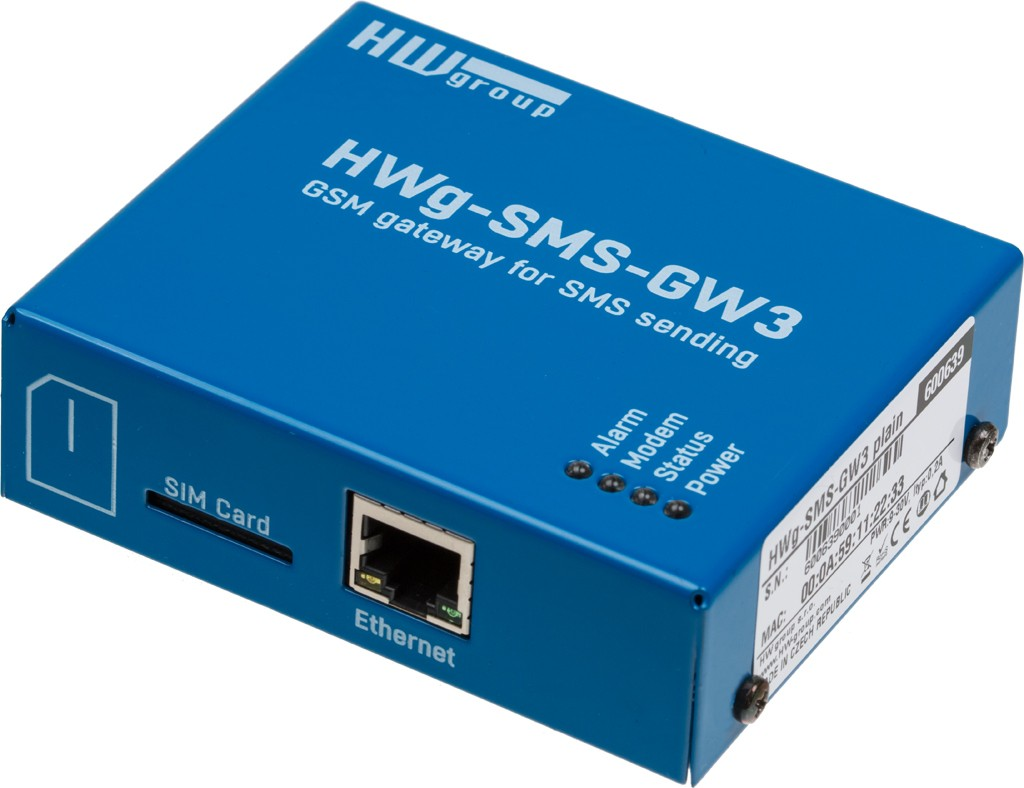SMS Gateway: (2, 2, 1024, 787)
